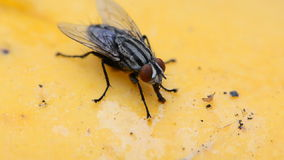house fly: (53, 1, 183, 123)
